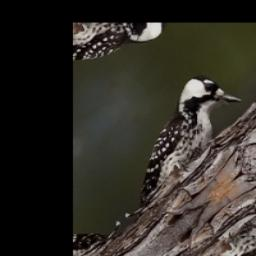Woodpecker: (103, 55, 255, 216)
